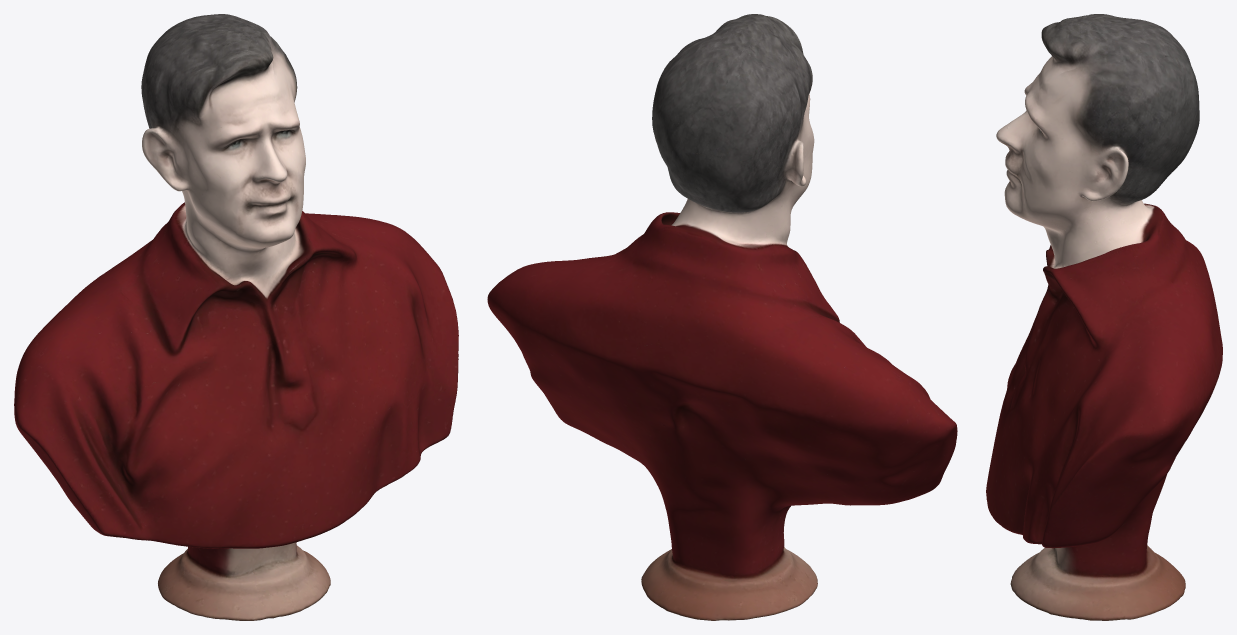
The picture shows the model from 3 angles, left to right: view 1: azimuth 30°, elevation 25°; view 2: azimuth 150°, elevation 25°; view 3: azimuth 270°, elevation 25°; orthographic projection.
Bounding box in the file's own units: 1.53 × 1.9 × 0.7284.
Materials: 1 (1 with a texture image).
